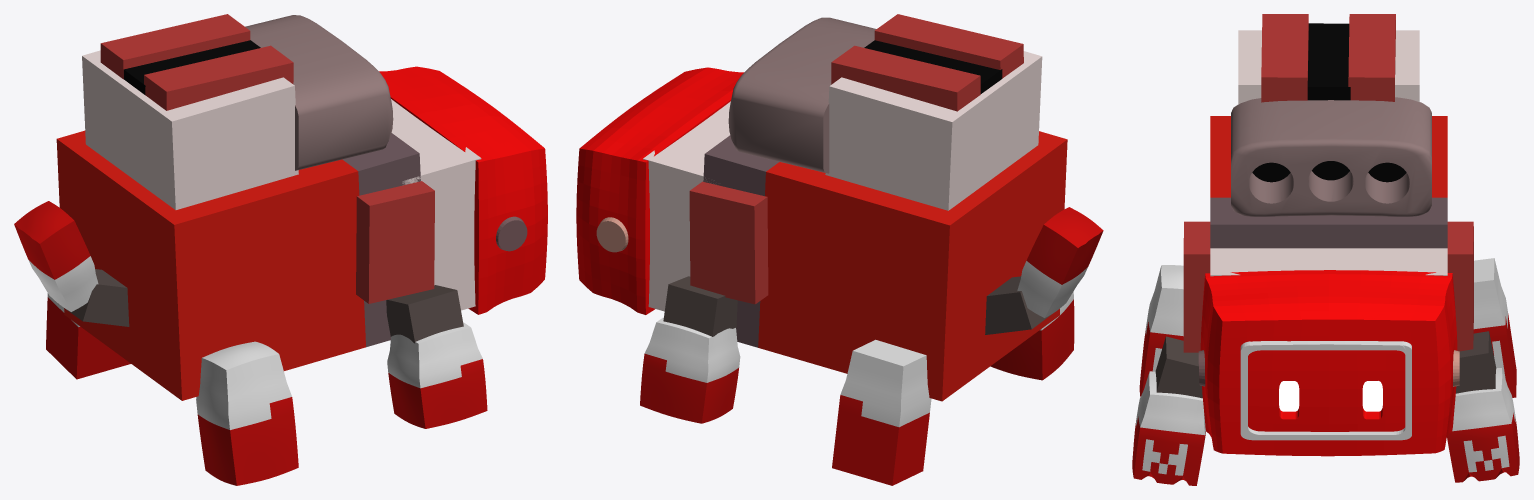
3 views of the same model, side by side, from view 1: azimuth 30°, elevation 25°; view 2: azimuth 150°, elevation 25°; view 3: azimuth 270°, elevation 25° (orthographic).
Visible parts, largest first — view 1: 立方体.002; view 2: 立方体.002; view 3: 立方体.002.
Part boxes in pixels (left/top/right/bottom): 立方体.002: left=14, top=14, right=547, bottom=485; 立方体.002: left=576, top=14, right=1103, bottom=485; 立方体.002: left=1132, top=14, right=1519, bottom=485.
Size of the model in its own units: 4.36 by 3.18 by 3.07.
